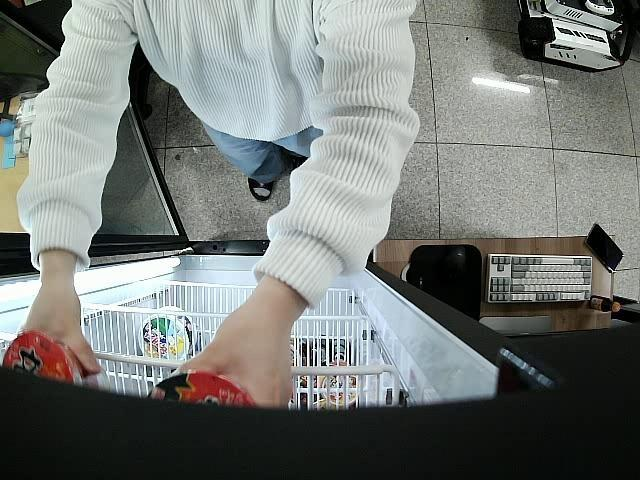02_shinRamen_S: (2, 329, 115, 395), (142, 369, 257, 408)
